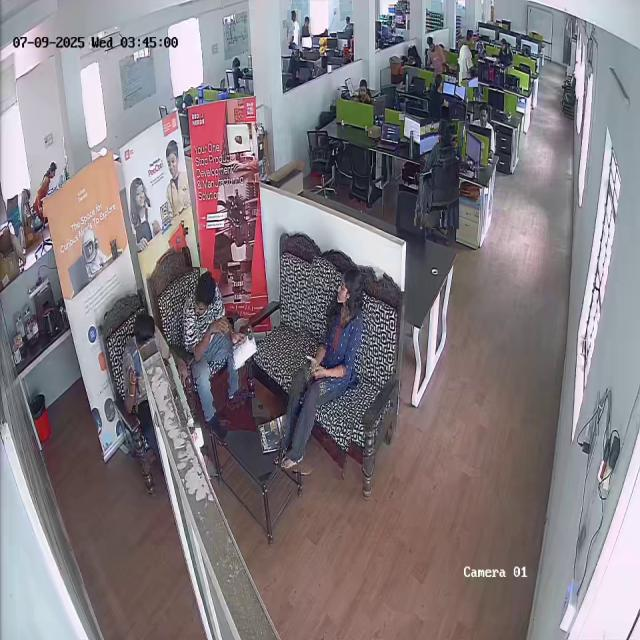person: (283, 259, 375, 478), (168, 267, 249, 430), (417, 118, 462, 230), (26, 154, 64, 217), (457, 29, 479, 87), (423, 36, 448, 74), (287, 10, 302, 49)
